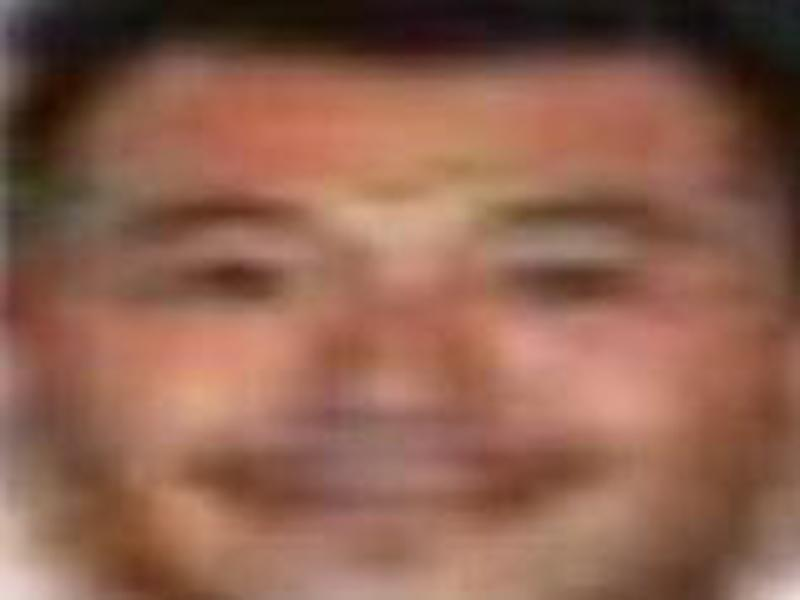without_mask: (34, 48, 785, 600)
